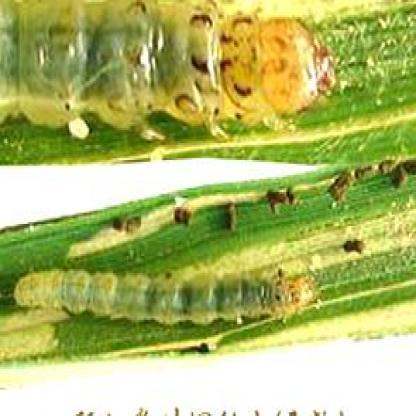leaf-folder: (0, 0, 339, 148), (13, 248, 317, 330)
